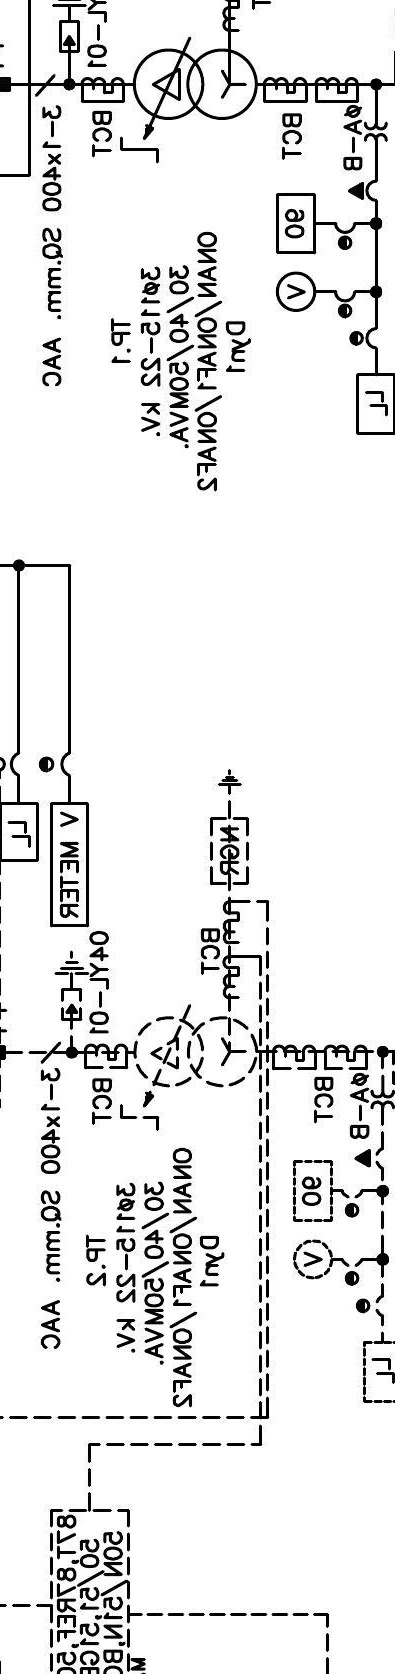11522_tx_dyn1: (132, 48, 259, 121)
v_m: (275, 270, 317, 313)
v_m_digital: (49, 801, 90, 928)
